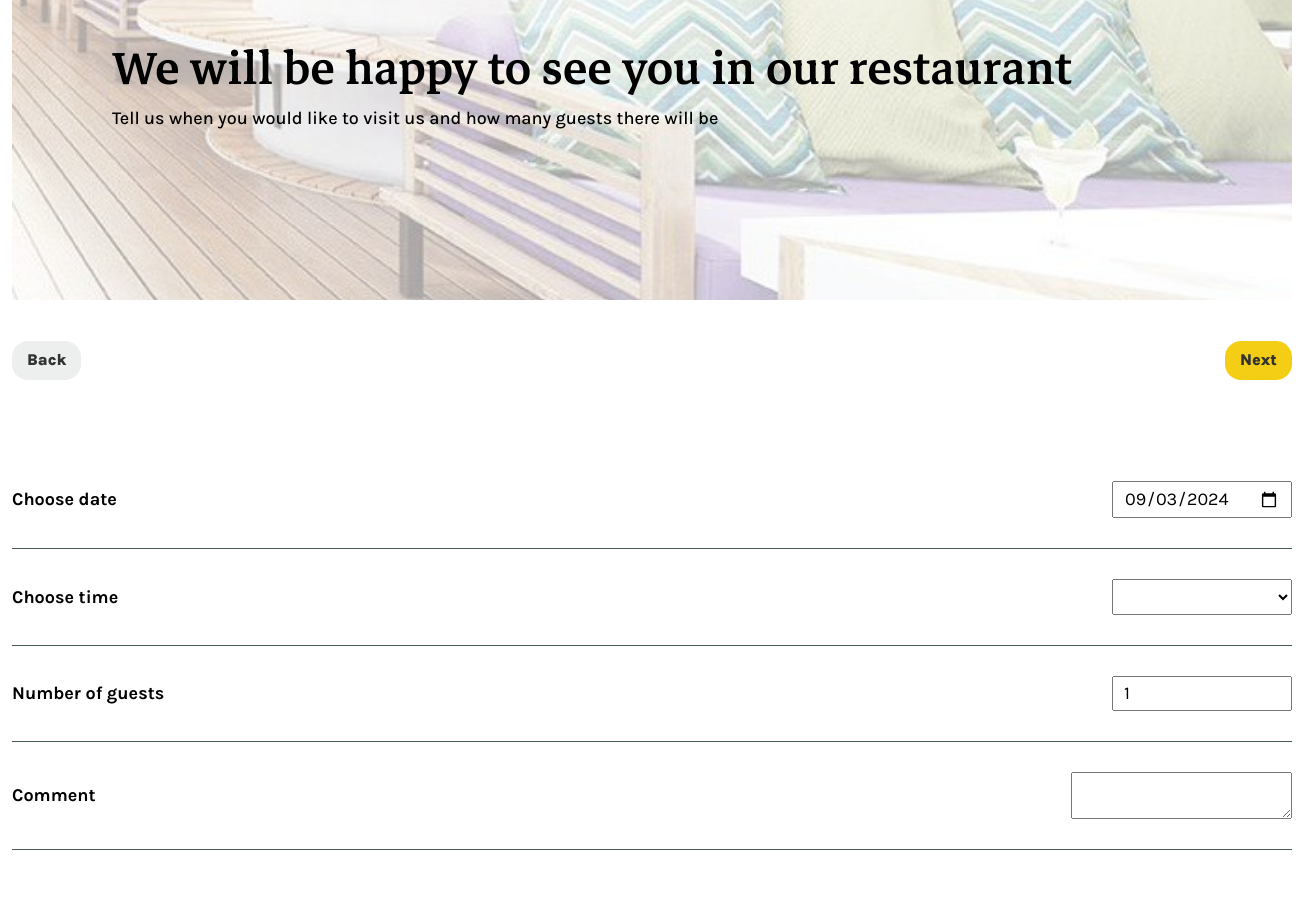
Scenario: Change the BookingForm header
The width and height of the screenshot is (1304, 900).
Click the button "Next": (1258, 361) x1=1225 y1=341 x2=1292 y2=380
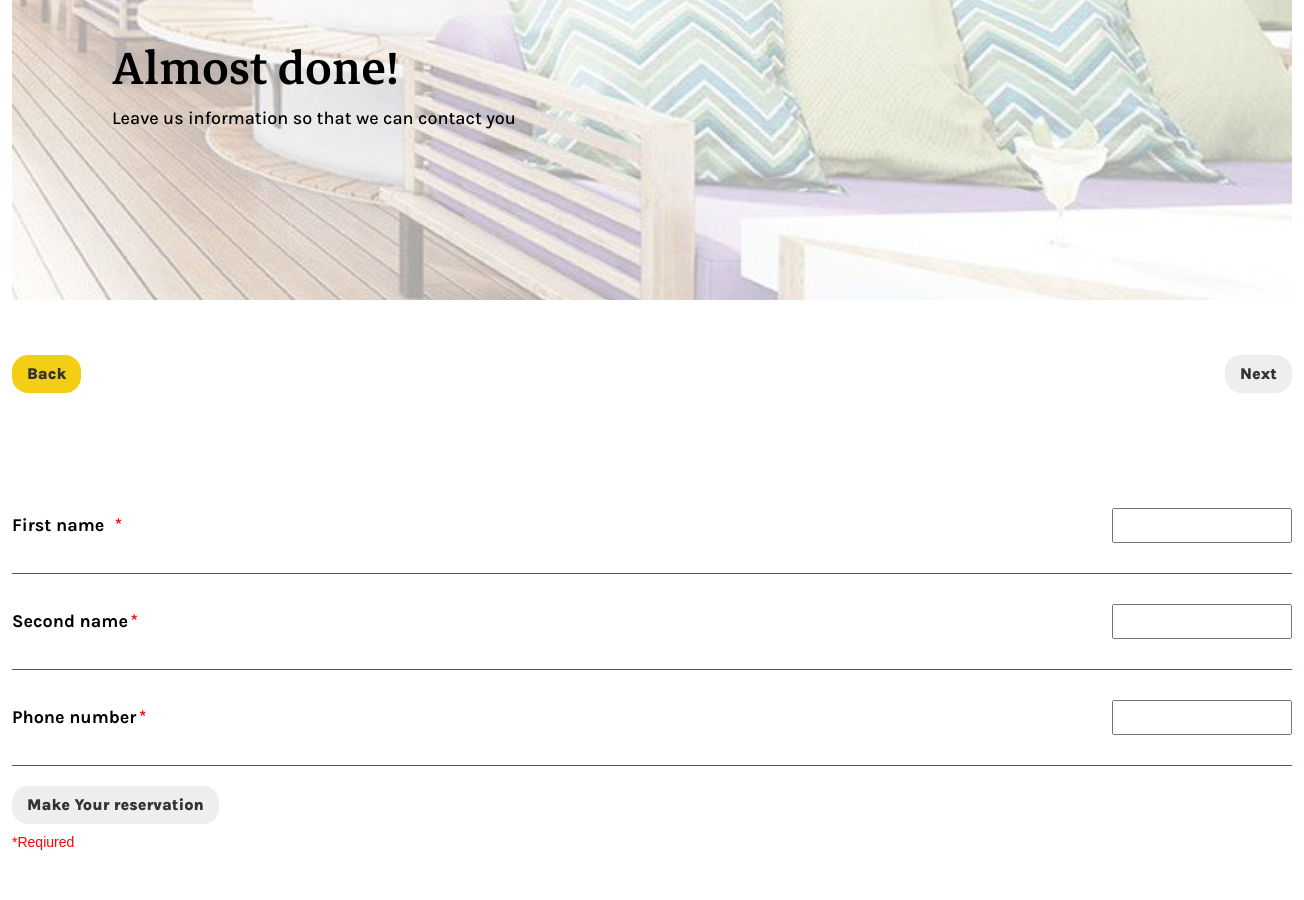
Expected: the heading "Almost done!" is shown, x1=112 y1=30 x2=399 y2=107
